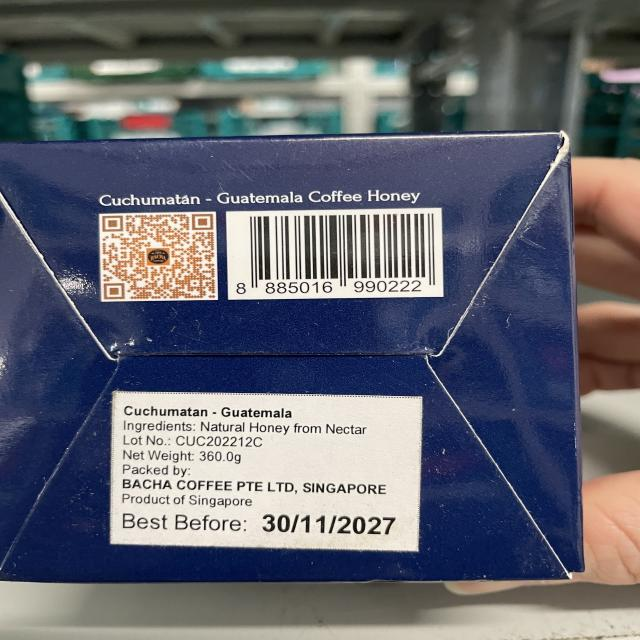object_name: (2, 143, 576, 575)
